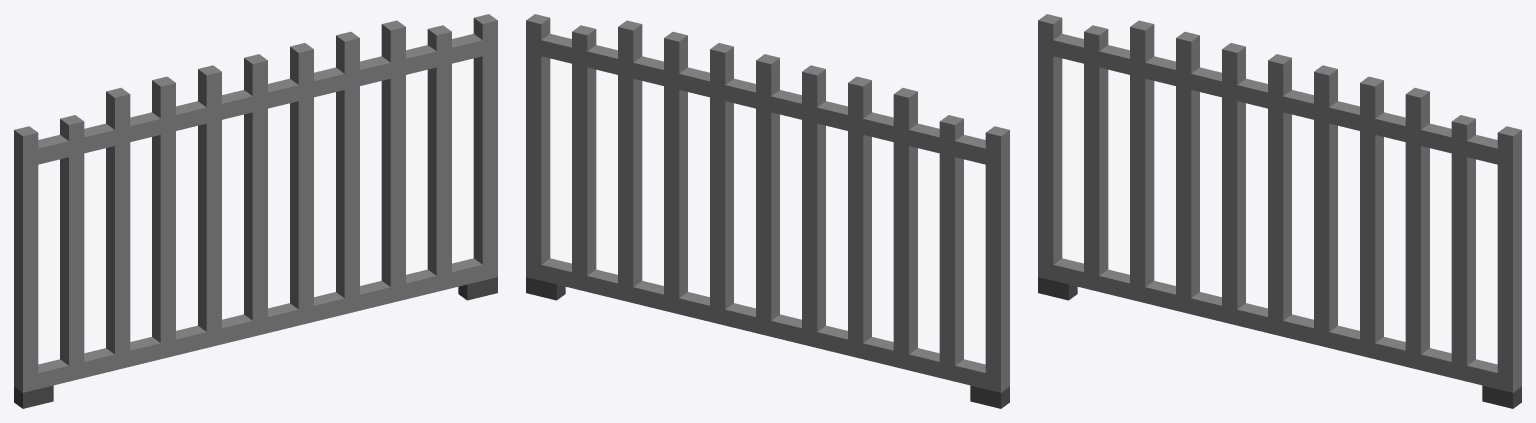
The model's file is obj_fence3.obj.
The picture shows the model from 3 angles, left to right: view 1: azimuth 30°, elevation 25°; view 2: azimuth 150°, elevation 25°; view 3: azimuth 330°, elevation 25°; orthographic projection.
Bounding box in the file's own units: 3.1 × 1.8 × 0.1.
Materials: 1 (1 with a texture image).
